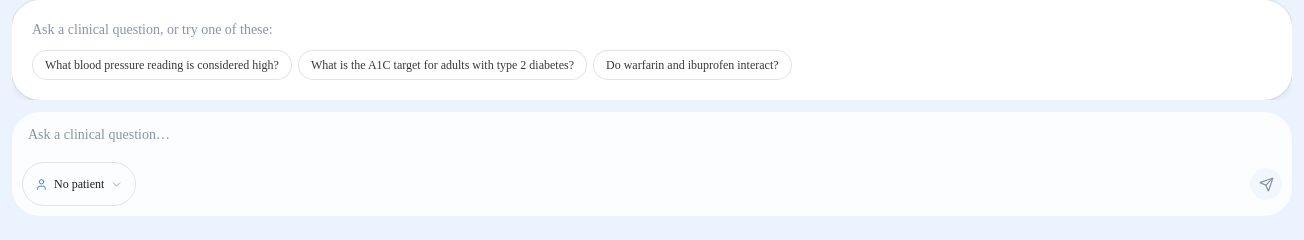
Test: CopilotPanel answer_delta streaming › leaves no streamed answer text after an error following deltas
The image size is (1304, 240).
Type "first-line therapy?" into the text box with placeholder "Ask a clinical question…" at (652, 134), box [12,112,1292,156]
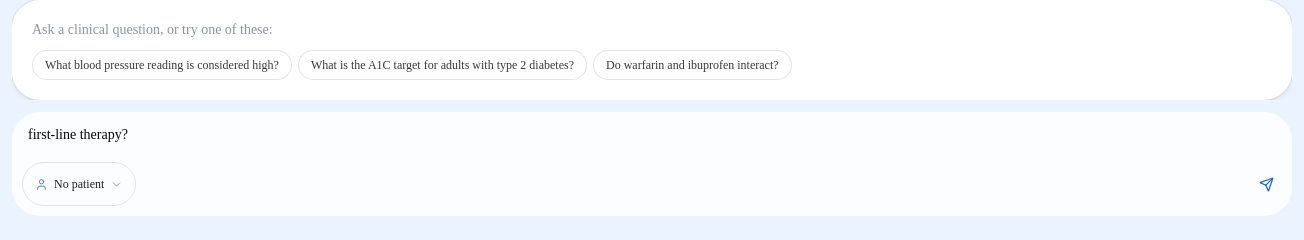
Click the button named "Send" at (1266, 184), box [1250,168,1282,200]
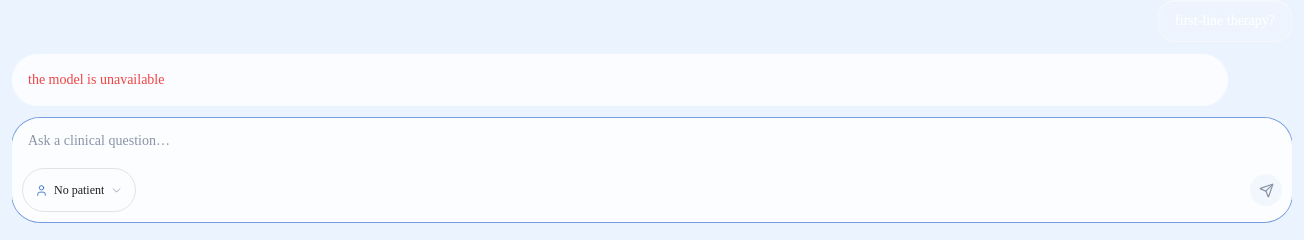
Now the text "the model is unavailable" is shown, box [28,72,164,87]
